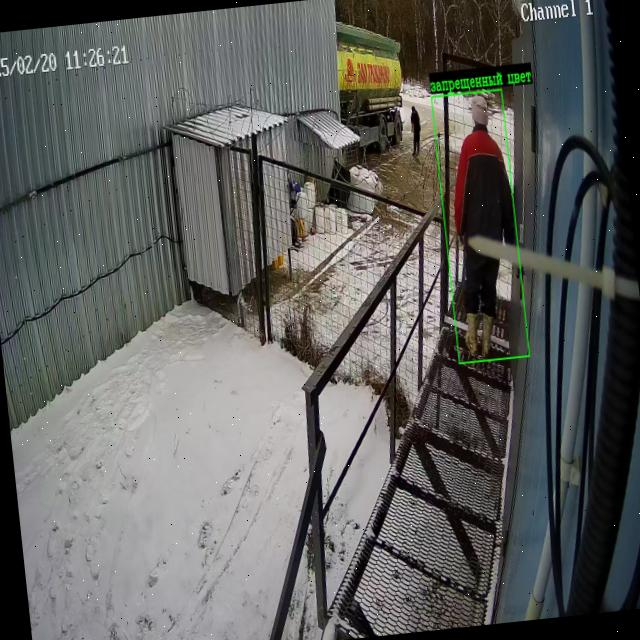Person: (410, 105, 420, 156)
Red uniform: (454, 94, 516, 357)
